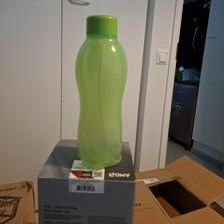bottle: (73, 13, 128, 168)
